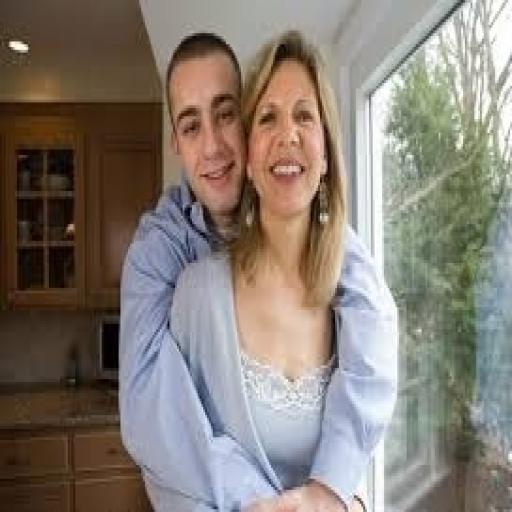hugging: (117, 28, 401, 509)
